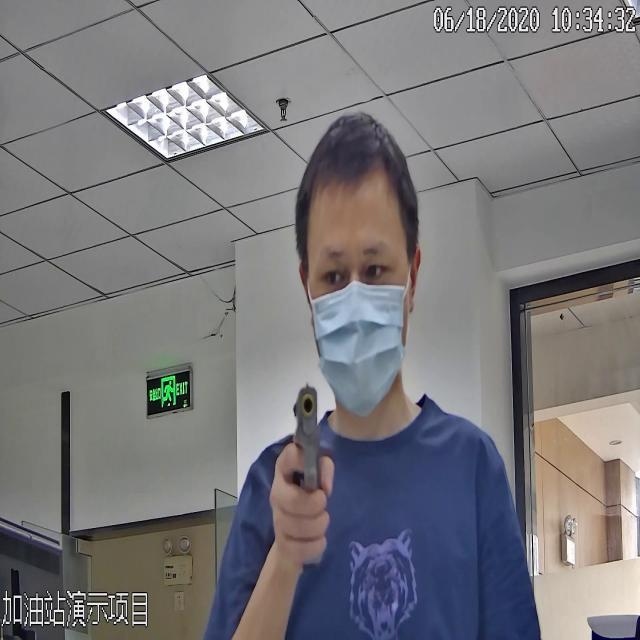gun-knife-thesis - v11 Yolov5 augmented: (271, 379, 338, 565)
